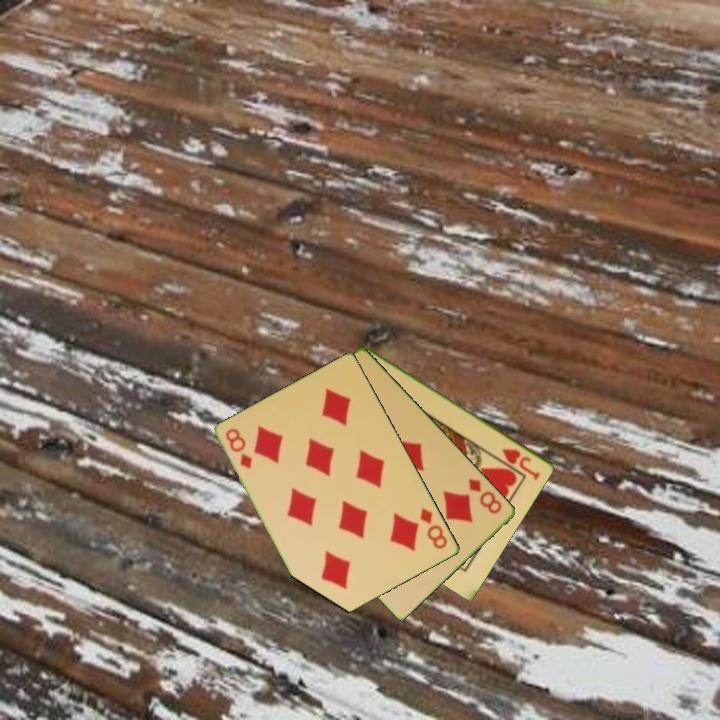8d: (465, 475, 505, 517), (417, 504, 451, 552), (222, 425, 256, 472)
Jh: (498, 445, 543, 483)
